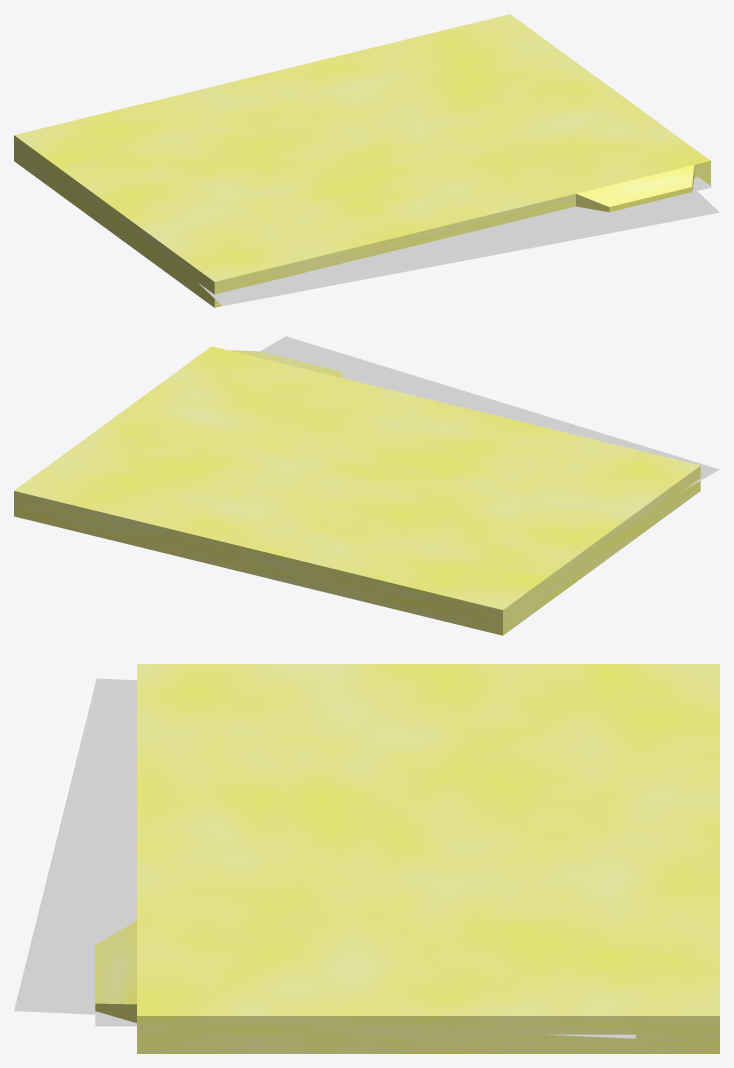
The model's file is Document.glb.
The picture shows the model from 3 angles, top to bottom: view 1: azimuth 30°, elevation 25°; view 2: azimuth 150°, elevation 25°; view 3: azimuth 270°, elevation 25°; orthographic projection. The views are drawn at different scales.
Parts seen in each view (by area): view 1: Document; view 2: Document; view 3: Document.
Part boxes in pixels (x1,y1,x2,y2): Document: (14,14,719,307); Document: (14,336,719,635); Document: (14,664,719,1053).
Size of what is drawn, in the model's own units: 2.05 by 0.1 by 1.7.
2 materials, 1 textured.
